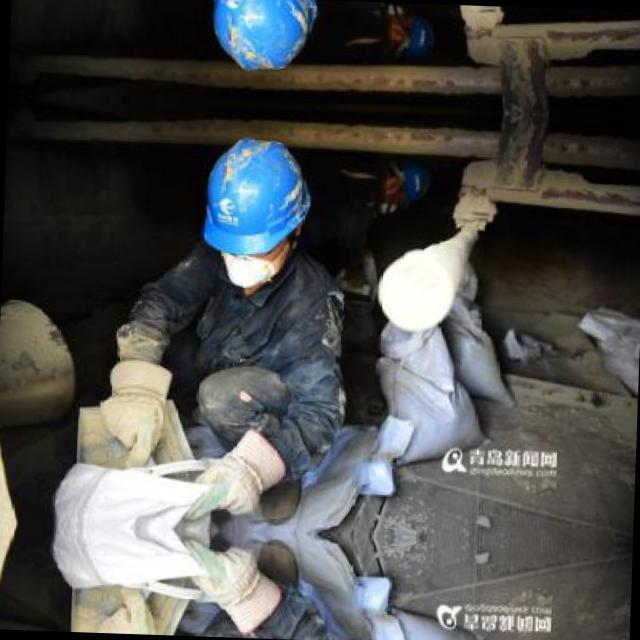helmet: (190, 123, 326, 297), (197, 0, 331, 86), (367, 153, 437, 215), (372, 3, 442, 65)
